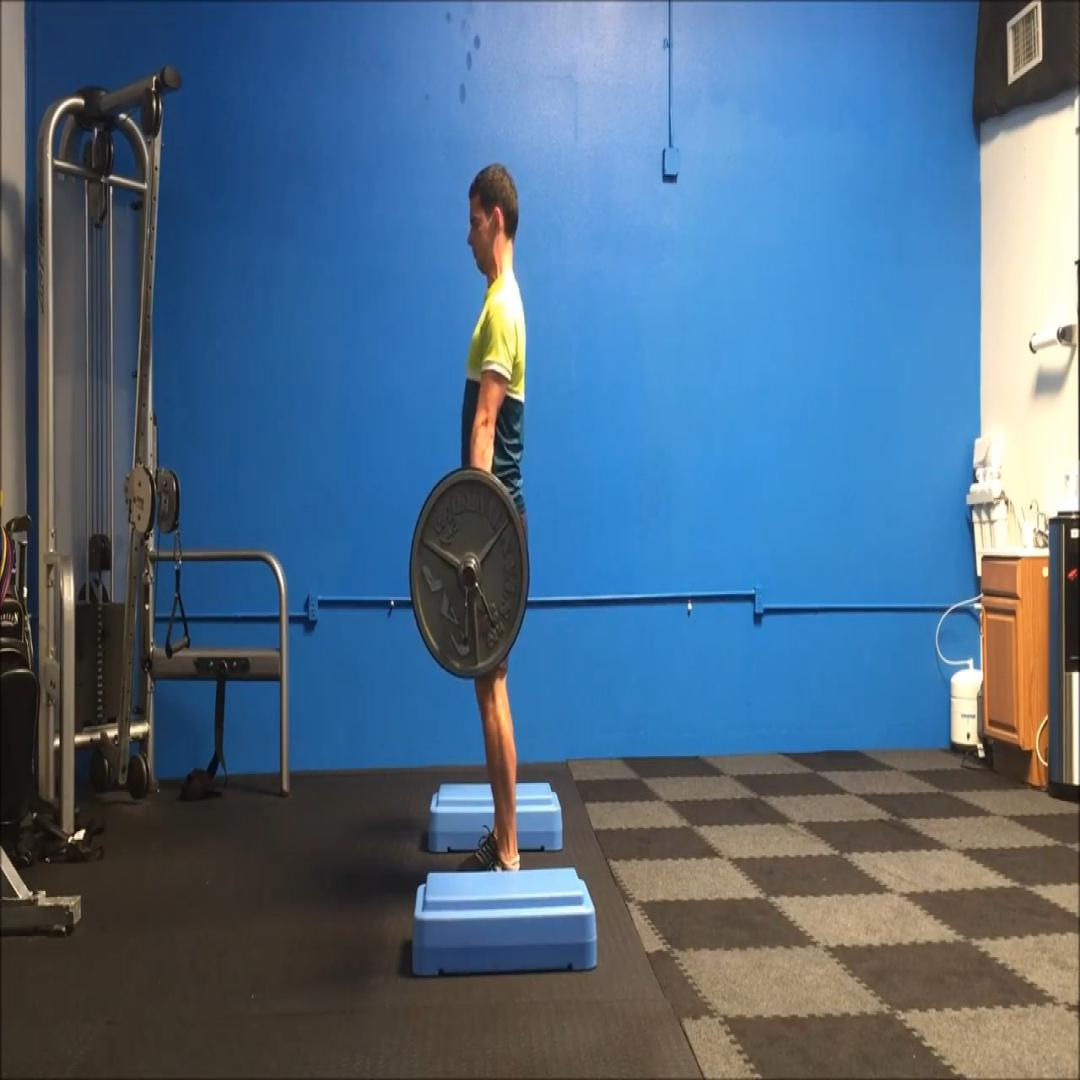Bar: (460, 561, 476, 589)
Barbell: (408, 466, 530, 680)
